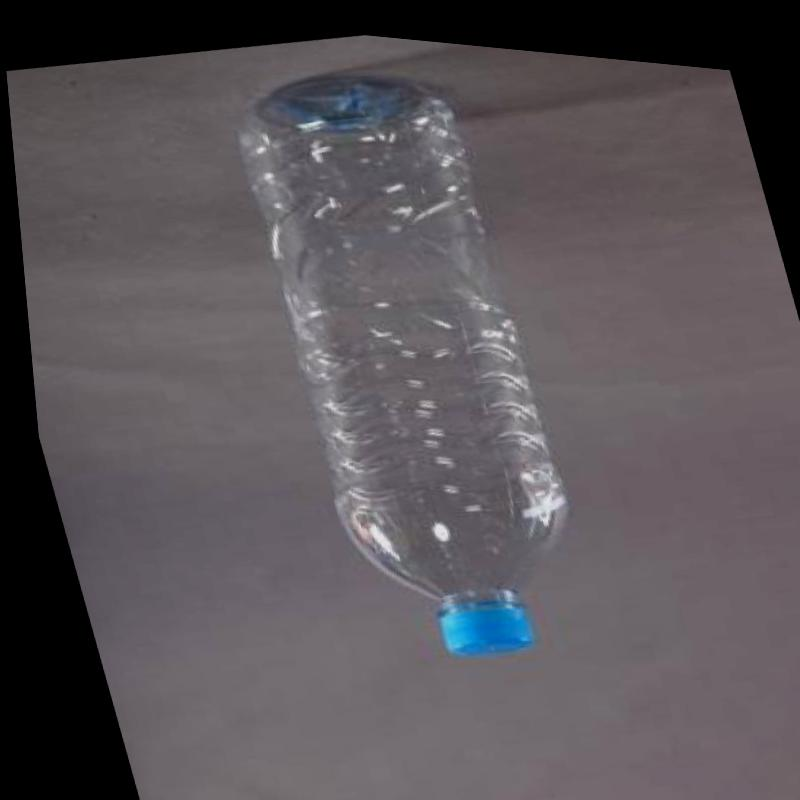botella: (196, 26, 620, 688)
